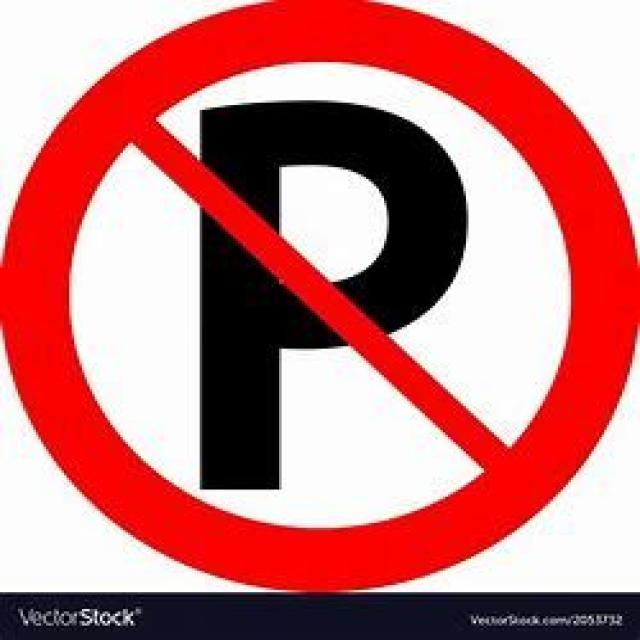no parking: (19, 19, 625, 577)
